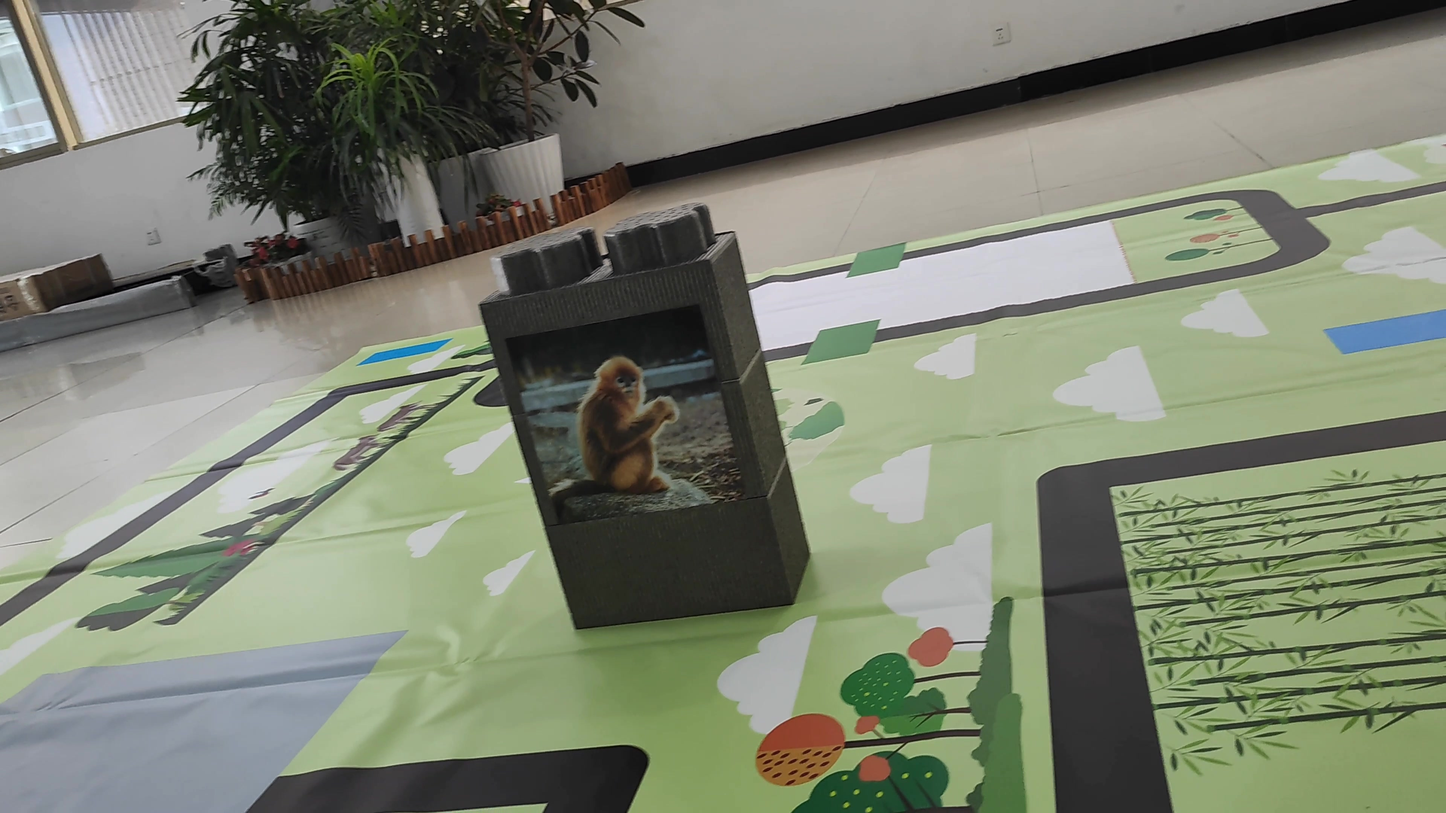monkey: (524, 316, 706, 514)
